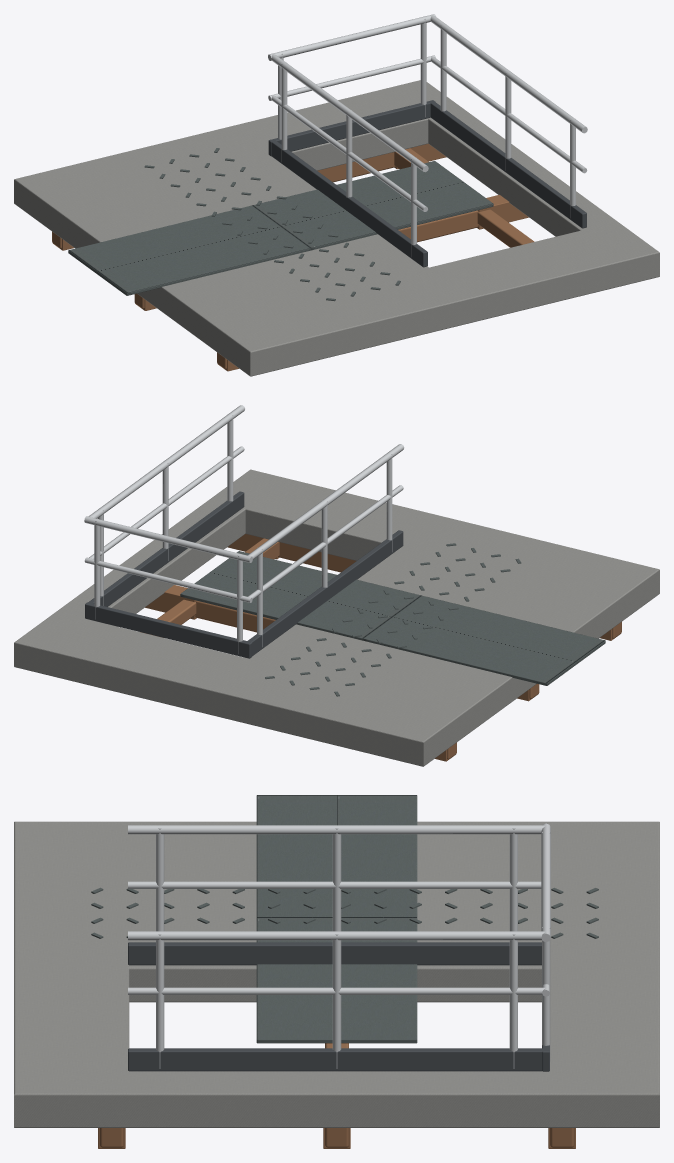
The model's file is fps-survival-forest-outpost-floor-slab-stairwell-8a26f4b7__32613.glb.
3 renders of one model, top to bottom at view 1: azimuth 30°, elevation 25°; view 2: azimuth 150°, elevation 25°; view 3: azimuth 270°, elevation 25°, orthographic. The views are drawn at different scales.
Visible parts, largest first — view 1: floor-slab-stairwell; view 2: floor-slab-stairwell; view 3: floor-slab-stairwell.
Boxes of the visible parts, x1=… form: floor-slab-stairwell: x1=14, y1=14, x2=659, y2=376; floor-slab-stairwell: x1=14, y1=405, x2=659, y2=766; floor-slab-stairwell: x1=14, y1=795, x2=659, y2=1148.
Bounding box in the file's own units: 4.36 × 1.38 × 4.02.
Materials: 5 (2 with a texture image).
